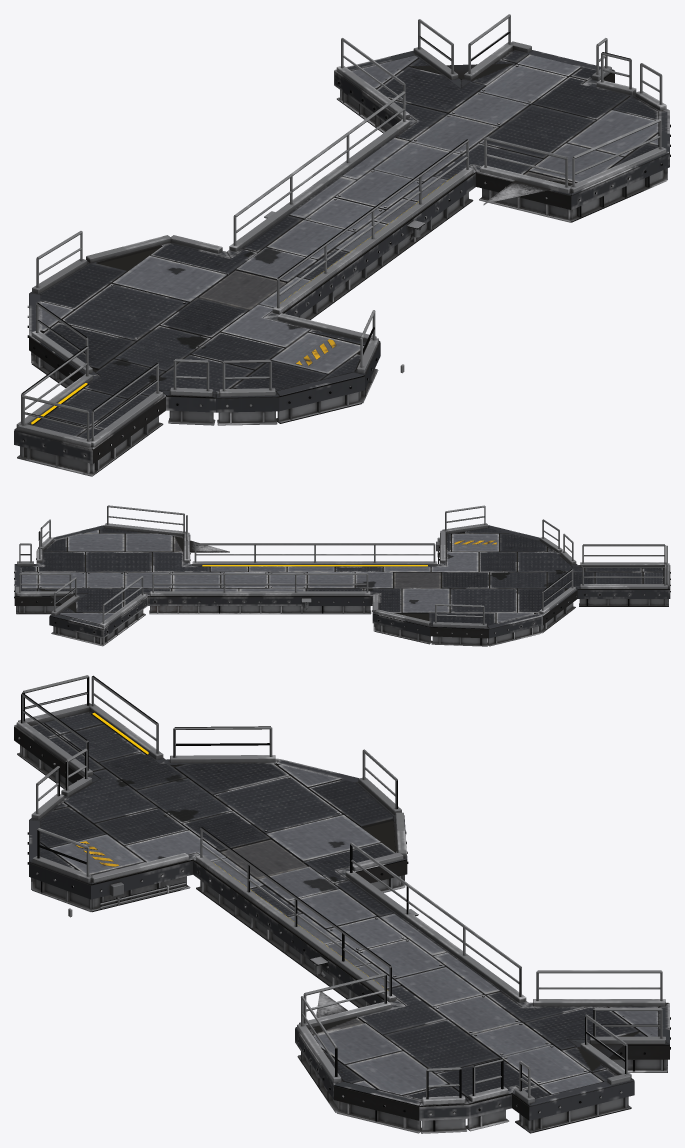
The model's file is nodexeus-set-deck-l3.glb.
The picture shows the model from 3 angles, top to bottom: view 1: azimuth 30°, elevation 25°; view 2: azimuth 150°, elevation 25°; view 3: azimuth 270°, elevation 25°; orthographic projection. The views are drawn at different scales.
Parts seen in each view (by area): view 1: set-deck-l3; view 2: set-deck-l3; view 3: set-deck-l3.
Boxes of the visible parts, x1,y1,x2,y2 form: set-deck-l3: [14, 14, 670, 476]; set-deck-l3: [14, 505, 670, 646]; set-deck-l3: [14, 675, 670, 1133].
Bounding box in the file's own units: 24.9 × 1.84 × 17.3.
Materials: 1 (1 with a texture image).
